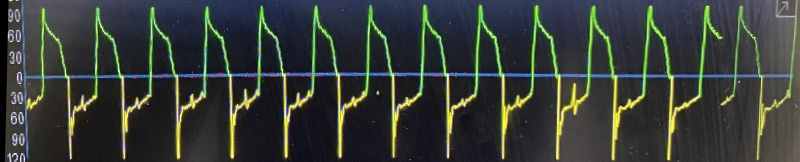hydrop_peepi: (16, 1, 799, 162)
